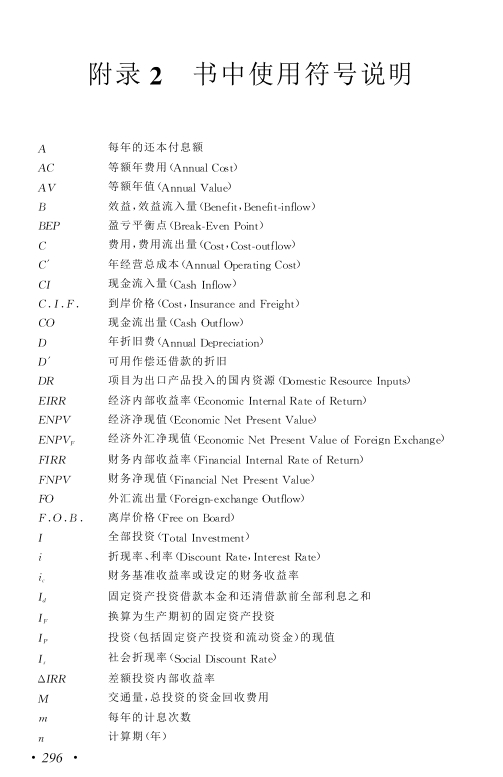table: (37, 142, 444, 741)
